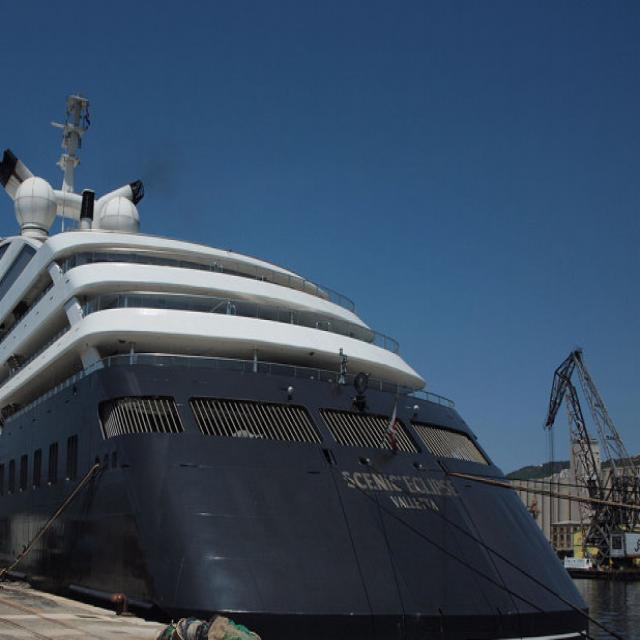cruises: (1, 89, 598, 640)
